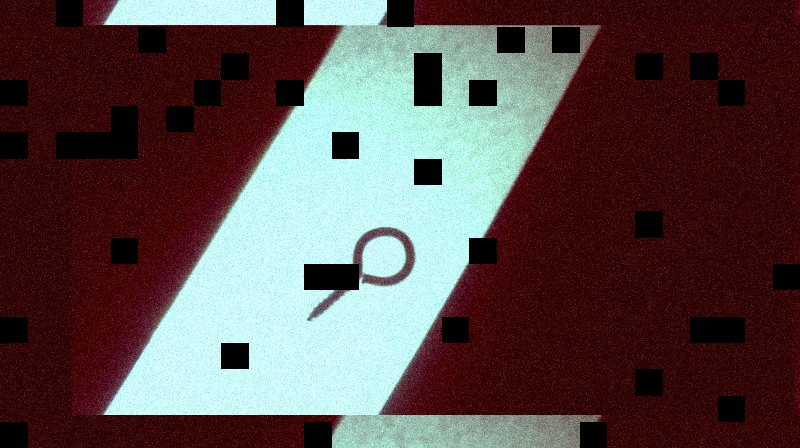O001: (302, 224, 418, 328)
